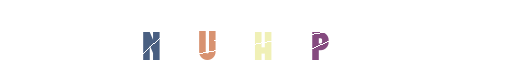H: (215, 0, 295, 80)
N: (169, 0, 249, 80)
P: (219, 0, 299, 80)
U: (180, 0, 260, 80)
